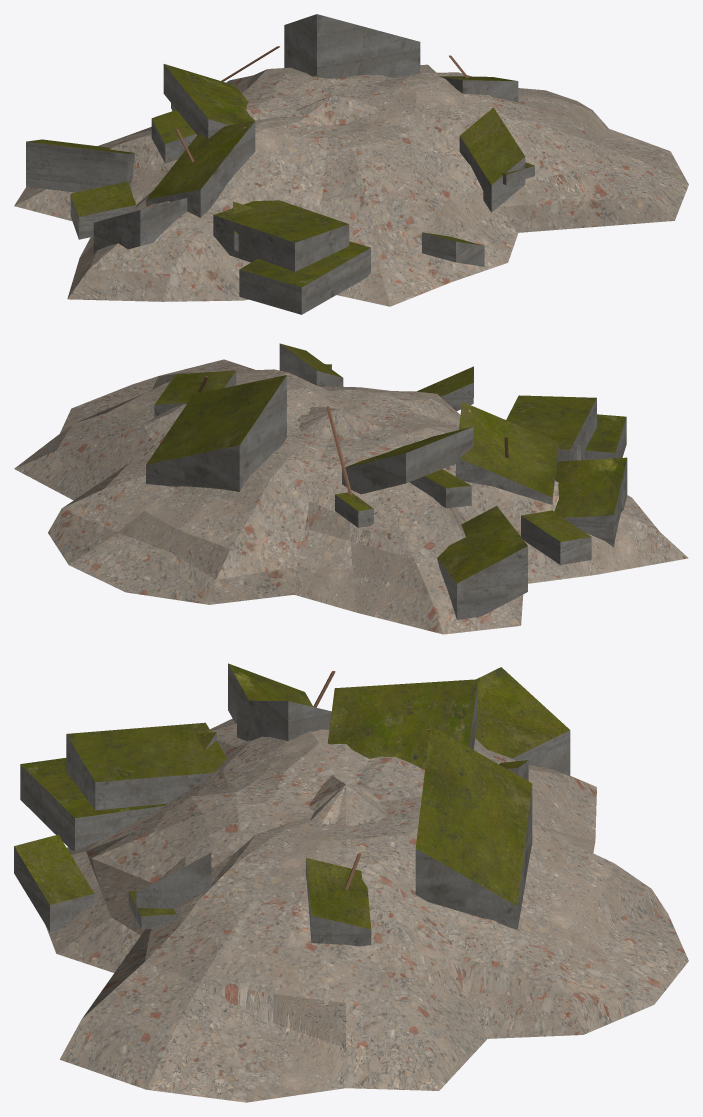
File: rubble_b.gltf
The picture shows the model from 3 angles, top to bottom: view 1: azimuth 30°, elevation 25°; view 2: azimuth 150°, elevation 25°; view 3: azimuth 270°, elevation 25°; orthographic projection. The views are drawn at different scales.
Parts seen in each view (by area): view 1: rubble_b; view 2: rubble_b; view 3: rubble_b.
Boxes of the visible parts, <box> form: rubble_b: <box>14,14,688,314</box>; rubble_b: <box>14,343,688,634</box>; rubble_b: <box>14,663,688,1102</box>.
Bounding box in the file's own units: 6.73 × 1.69 × 5.04.
